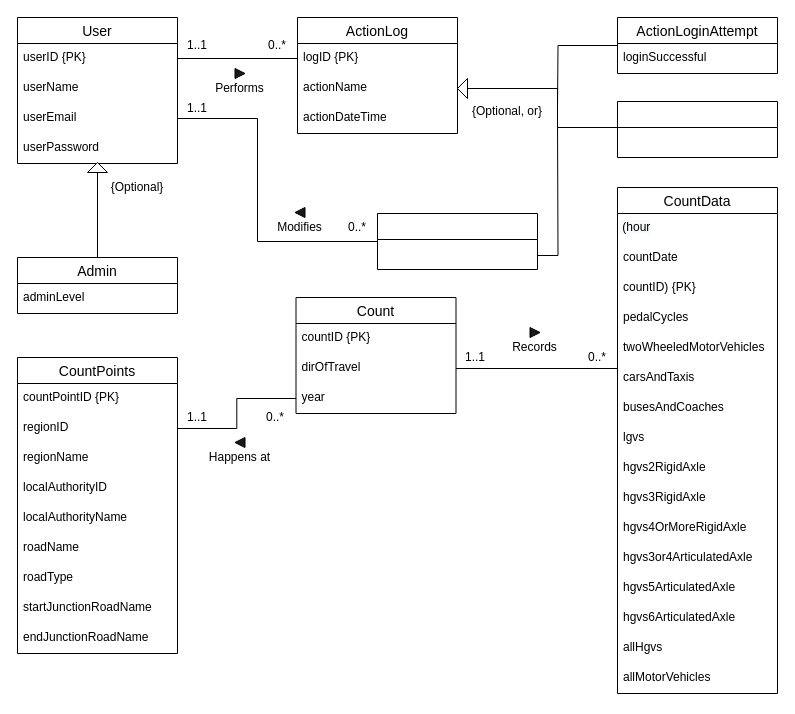
Some shapes in this 795 by 714 pixel diagram are drawn without their labels. Each missing label, with the centre of its shape:
ActionEditUser: (457,241)
ActionLogout: (697,129)
